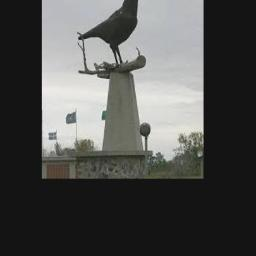Crow: (77, 0, 149, 69)
